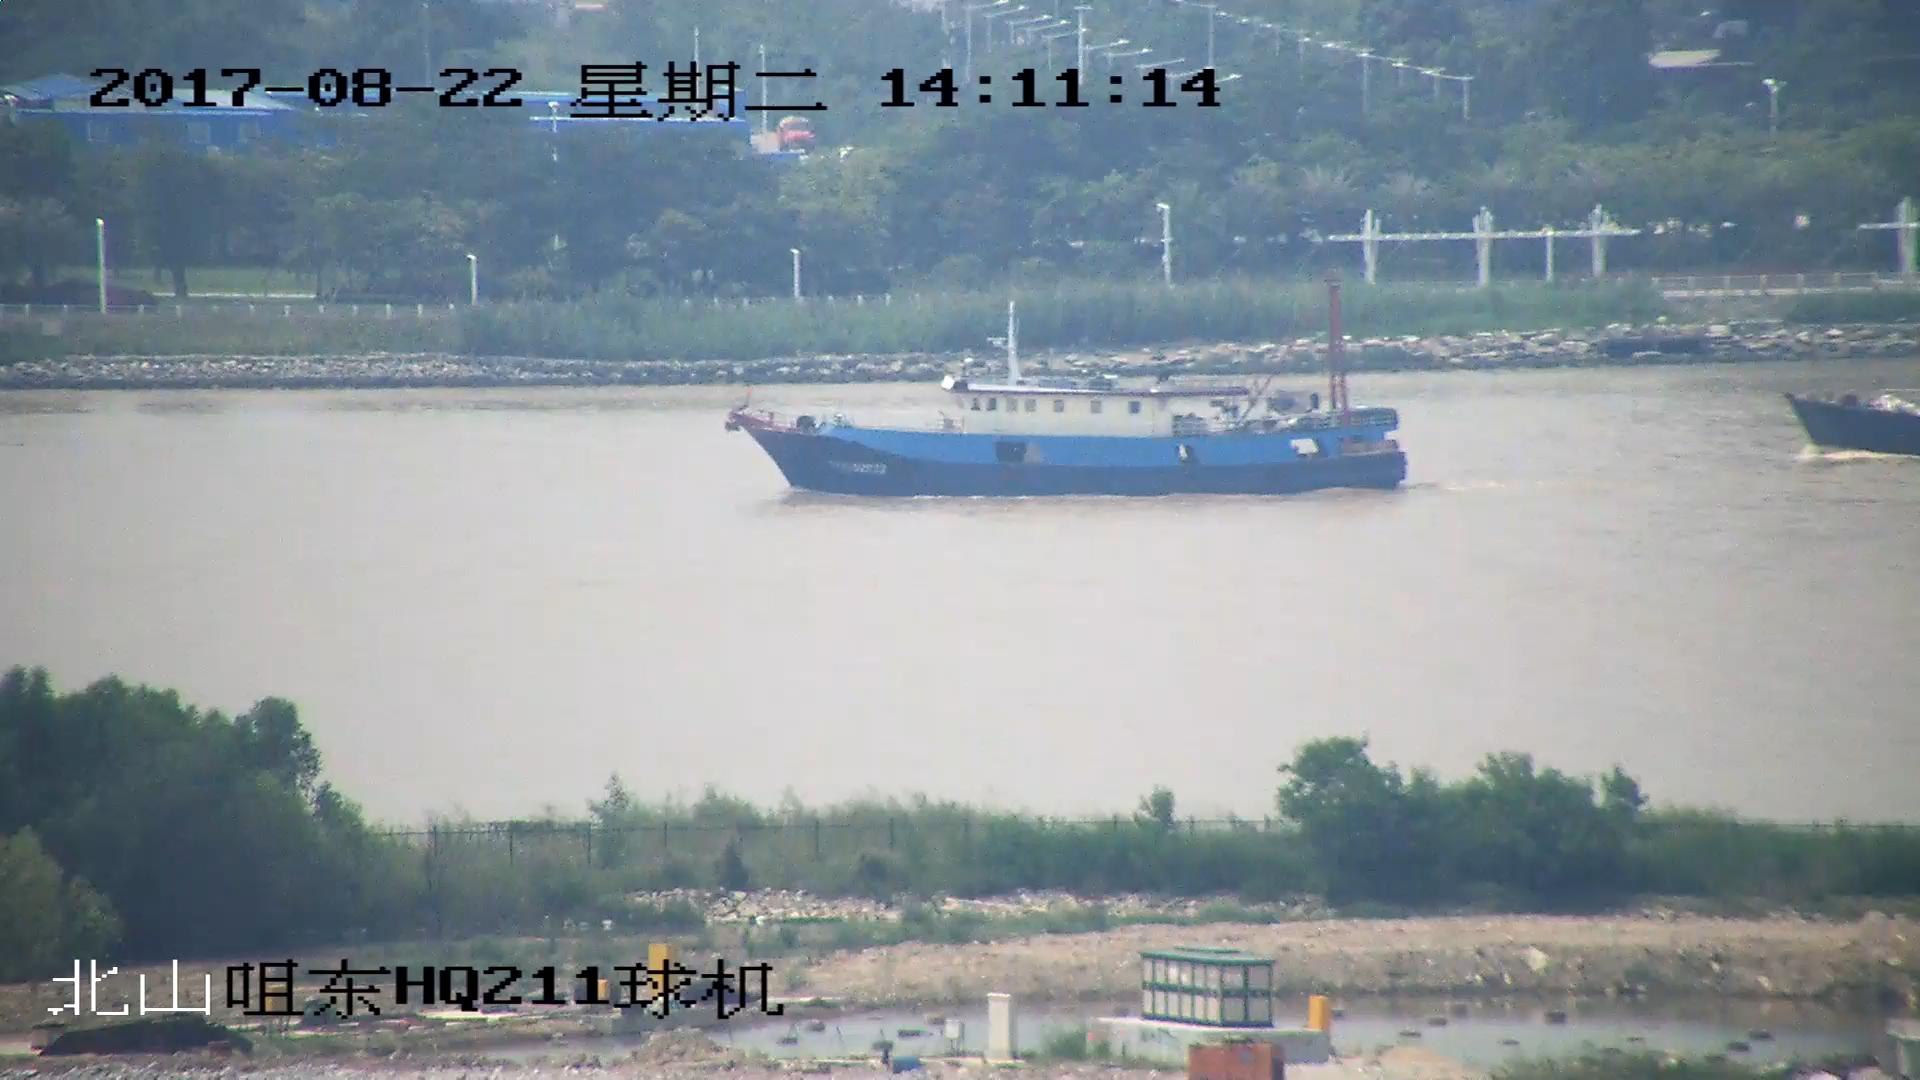fishing boat: (735, 274, 1406, 493)
